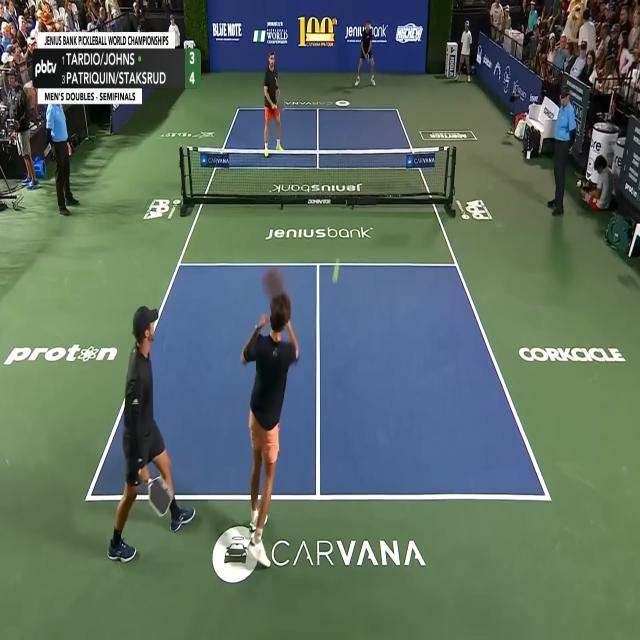ball: (331, 255, 342, 288)
